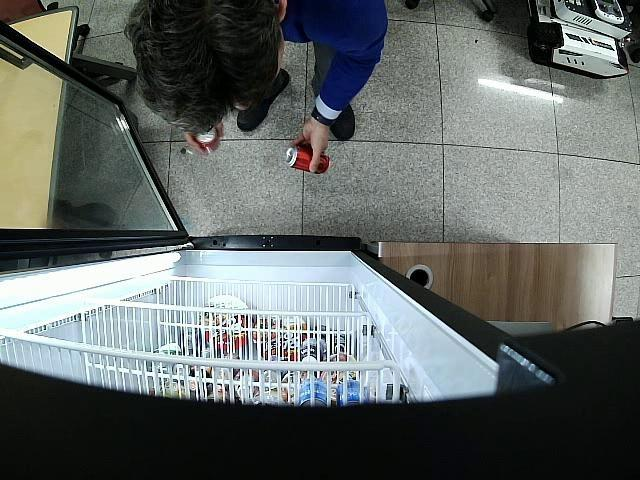11_cocaColaZero: (286, 147, 330, 172), (193, 125, 220, 150)
